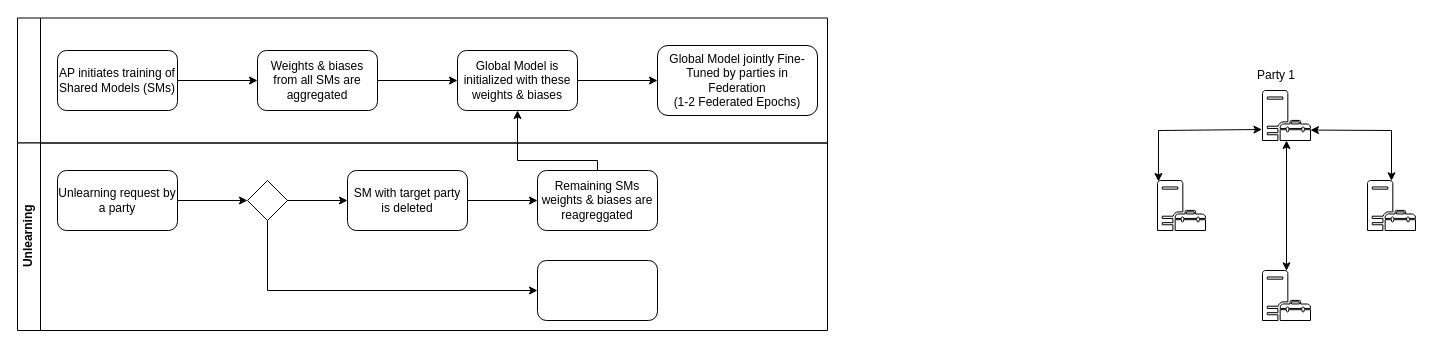
The diagram is 1433 pixels wide and 348 high, and some of its shapes have lost their labels. The shapes that lost their labels are listed below. From the top down, each one's centre as x and y in pixels, then its label:
point 422,80: Learning
point 597,290: Local Model of AP is the Global Model
